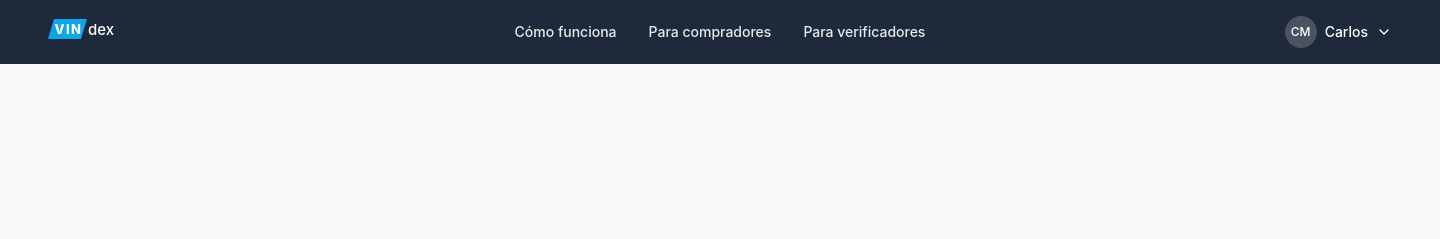
LandingHeader › authenticated (user role) › closes dropdown on Escape
Step 1. Click the text "Carlos" → (1346, 32), box [1325,22,1368,42]
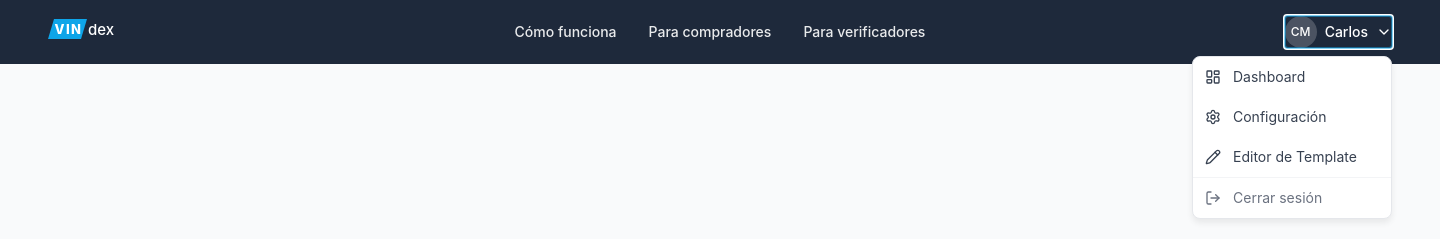
Expected: the menu is shown, [1192,56,1392,219]
Step 2. Press Escape
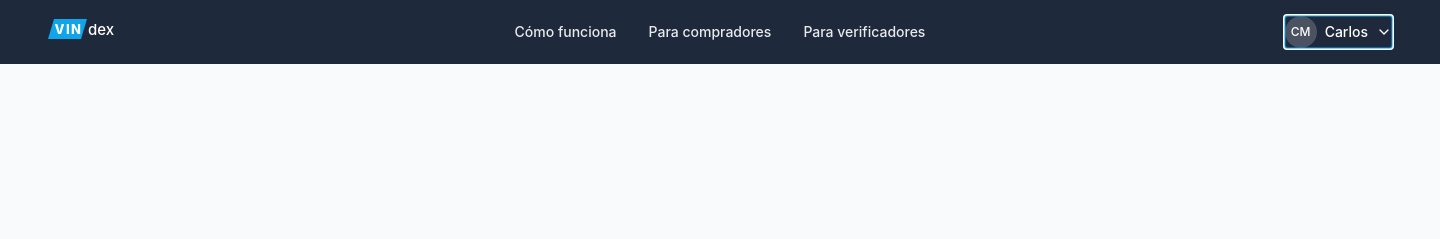
Expected: the menu is gone
